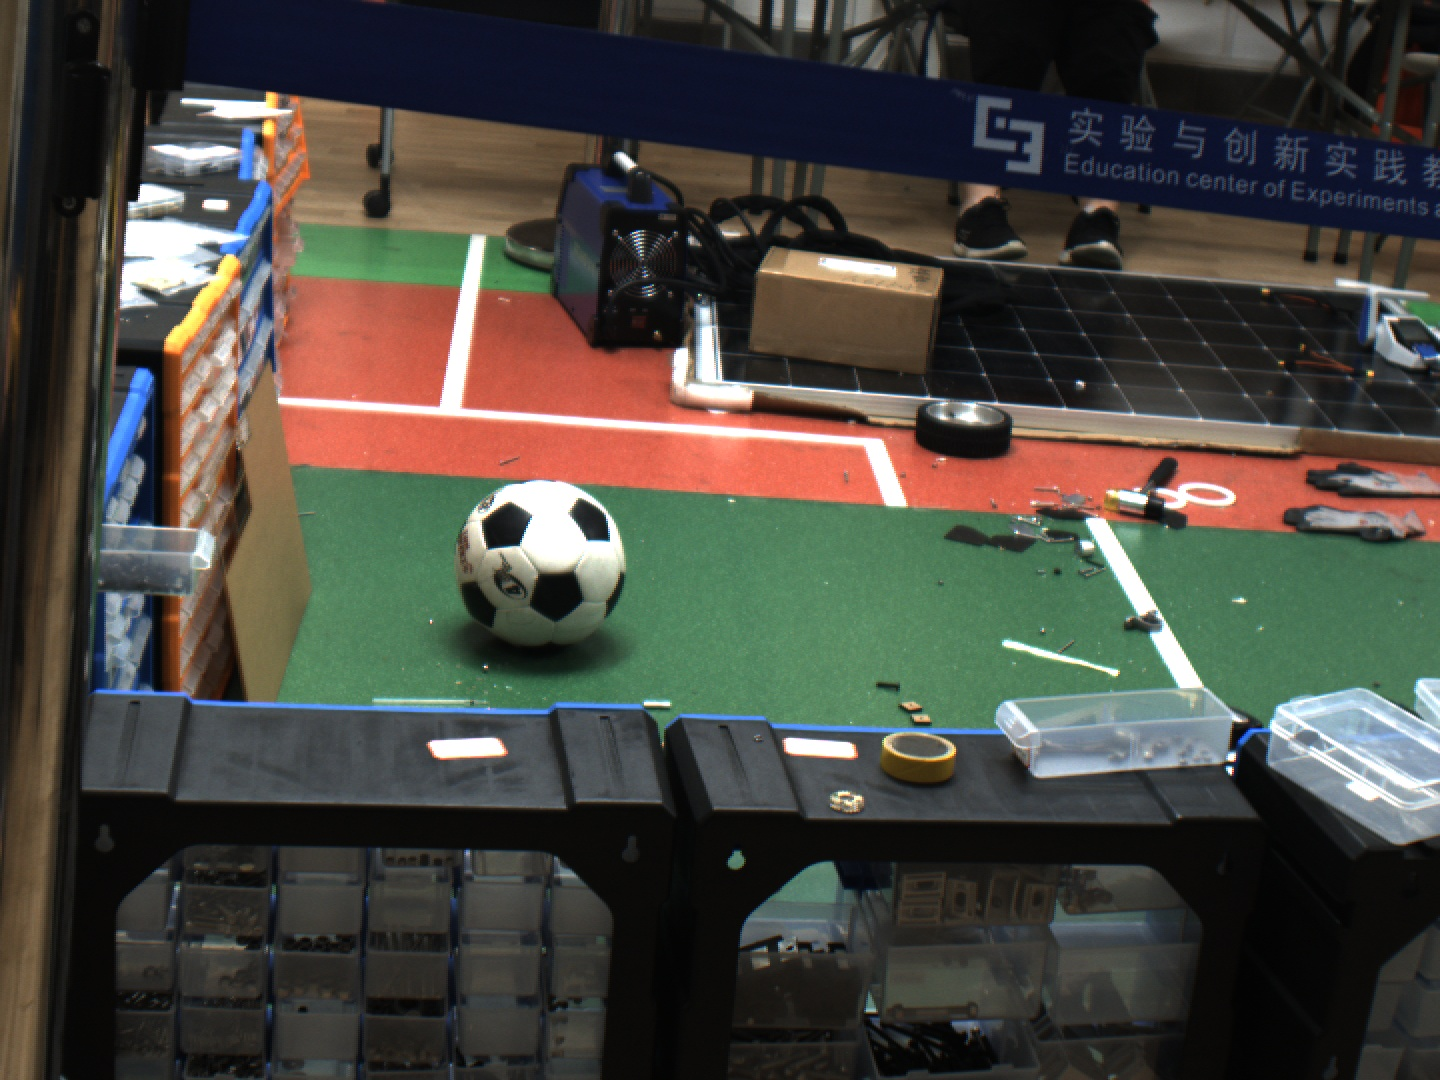ball: (434, 466, 664, 664)
